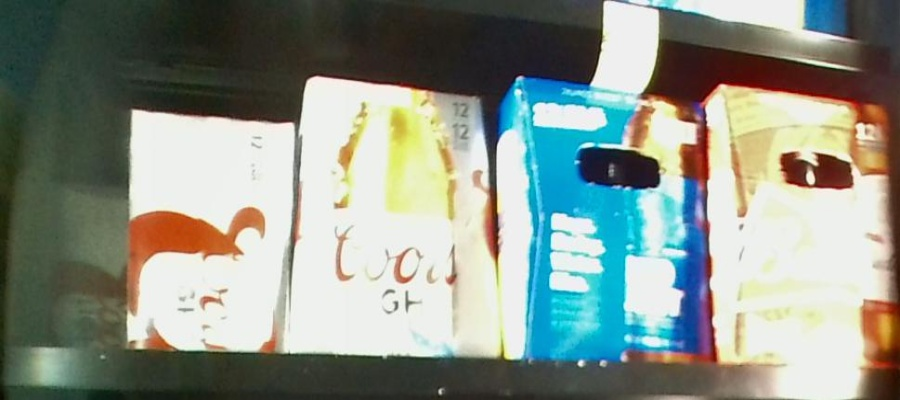bottle: (499, 72, 714, 365), (304, 76, 499, 358), (708, 88, 900, 365), (127, 113, 291, 348)
